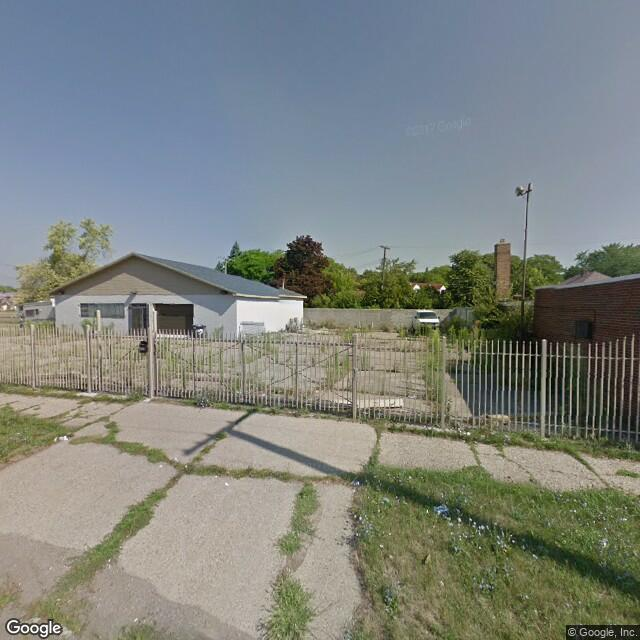litter: (427, 501, 452, 519), (52, 428, 71, 444), (215, 473, 235, 488), (130, 612, 142, 626)
